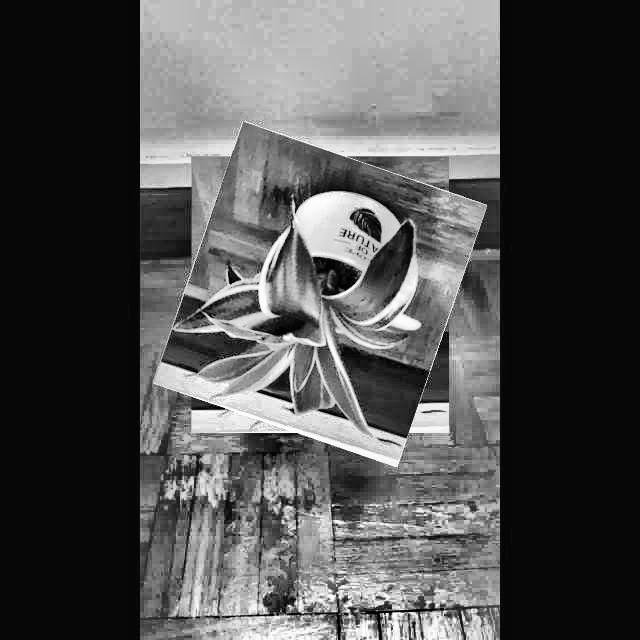plants: (172, 139, 468, 450)
